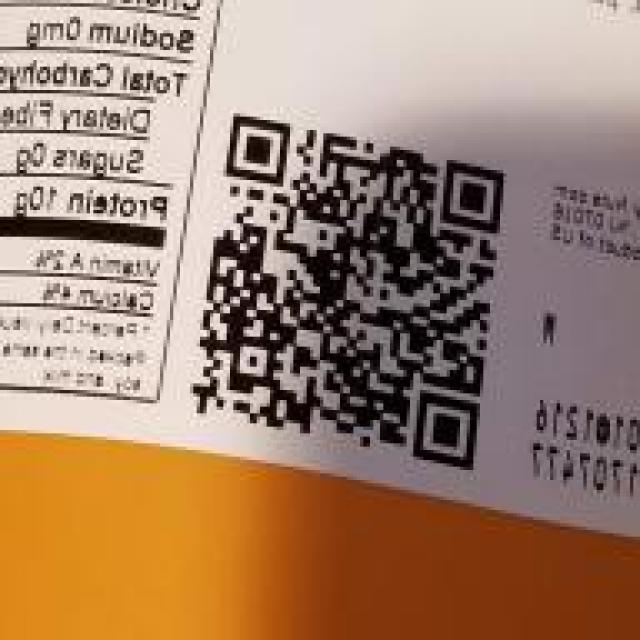QR_CODE: (182, 110, 513, 478)
